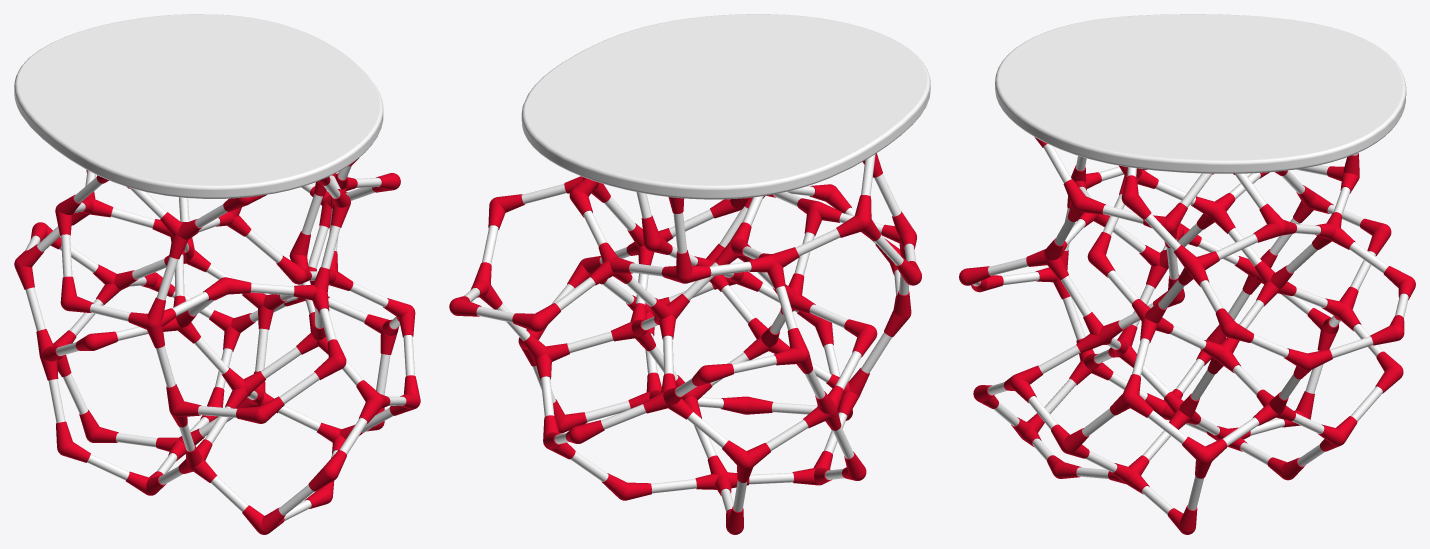
3 renders of one model, left to right at view 1: azimuth 30°, elevation 25°; view 2: azimuth 150°, elevation 25°; view 3: azimuth 270°, elevation 25°, orthographic. The views are drawn at different scales.
Parts seen in each view (by area): view 1: networkchair_joint v4; view 2: networkchair_joint v4; view 3: networkchair_joint v4.
Boxes of the visible parts, <box> form: networkchair_joint v4: <box>14,14,420,534</box>; networkchair_joint v4: <box>449,14,930,534</box>; networkchair_joint v4: <box>959,14,1415,534</box>.
Size of the model in its own units: 0.5958 by 0.5562 by 0.6283.
